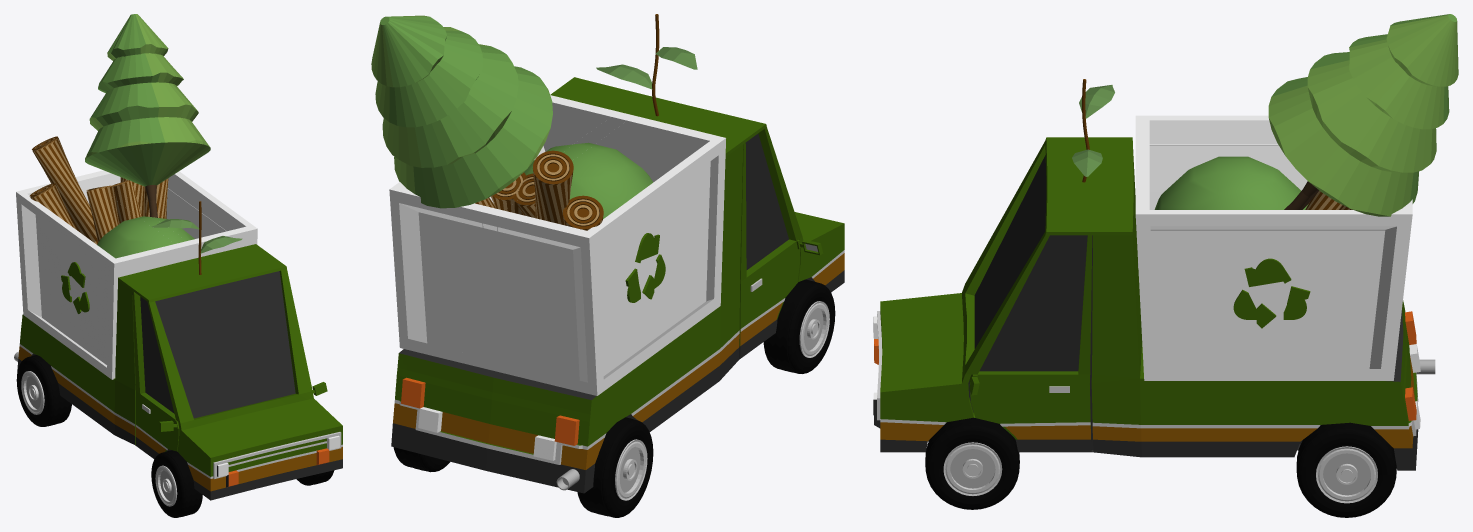
The model's file is CR-CAR-9A.fbx.
3 renders of one model, left to right at view 1: azimuth 30°, elevation 25°; view 2: azimuth 150°, elevation 25°; view 3: azimuth 270°, elevation 25°, orthographic. The views are drawn at different scales.
Parts seen in each view (by area): view 1: BODY, TREE, WHEEL.004, WHEEL.001, Mball, PLANT; view 2: BODY, TREE, WHEEL.004, WHEEL.001, Mball, PLANT, WHEEL.002; view 3: BODY, TREE, WHEEL.002, WHEEL.003, Mball, PLANT.
Part boxes in pixels (bbox=[...]): BODY: bbox=[16, 136, 342, 500]; TREE: bbox=[85, 14, 210, 217]; WHEEL.004: bbox=[16, 355, 71, 426]; WHEEL.001: bbox=[151, 450, 202, 517]; Mball: bbox=[97, 216, 194, 258]; PLANT: bbox=[151, 219, 242, 253]; BODY: bbox=[389, 77, 844, 493]; TREE: bbox=[371, 15, 552, 208]; WHEEL.004: bbox=[577, 417, 653, 517]; WHEEL.001: bbox=[763, 279, 835, 373]; Mball: bbox=[524, 142, 653, 218]; PLANT: bbox=[596, 47, 697, 89]; WHEEL.002: bbox=[393, 447, 449, 472]; BODY: bbox=[873, 115, 1420, 470]; TREE: bbox=[1268, 14, 1458, 216]; WHEEL.002: bbox=[1296, 422, 1396, 517]; WHEEL.003: bbox=[925, 417, 1019, 509]; Mball: bbox=[1154, 156, 1308, 209]; PLANT: bbox=[1072, 85, 1114, 176].
Bounding box in the file's own units: 122 × 237 × 254.
